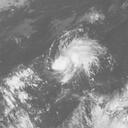cyclone: (52, 33, 104, 80)
